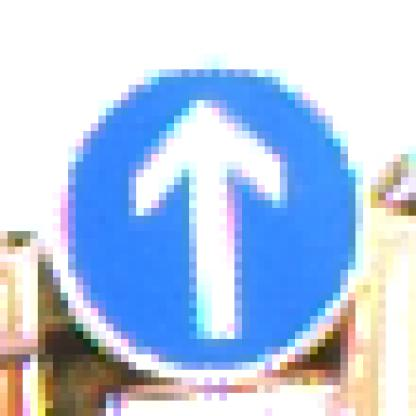AheadOnly: (47, 47, 380, 379)
